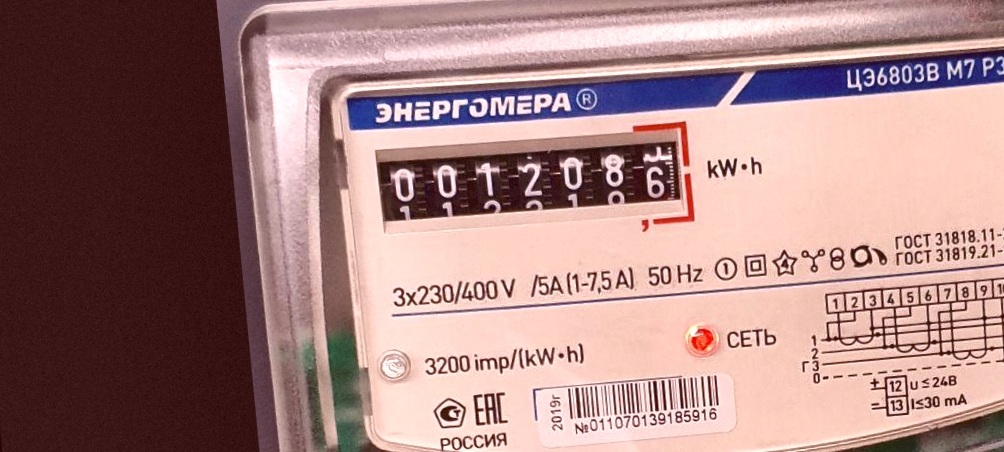0: (389, 162, 419, 204), (433, 160, 461, 199), (558, 152, 586, 190)
1: (475, 158, 500, 198)
2: (518, 158, 547, 198)
6: (641, 162, 668, 200)
8: (599, 149, 628, 189)
screen: (367, 111, 706, 256)
